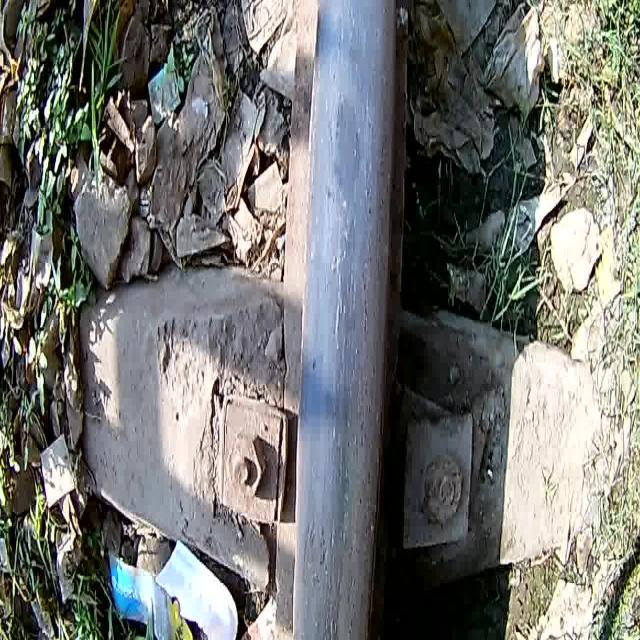Squats: (291, 81, 410, 231)
